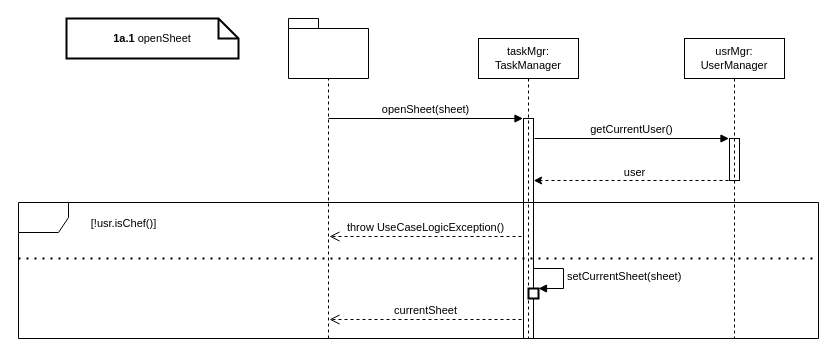
Image size: 837x357. Some labels were removed from this diagram. Here are the shapes that lost their labels. From the top down, the box of each, then its label:
(288, 18, 368, 78): UI
(18, 202, 818, 338): Alt
